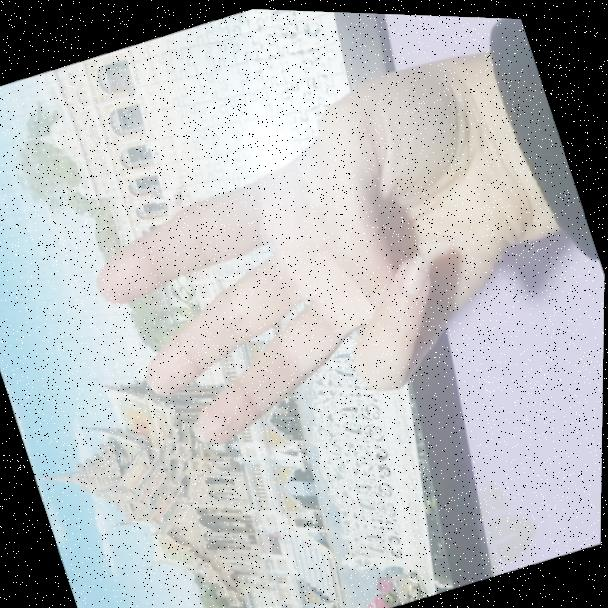five: (52, 17, 591, 484)
